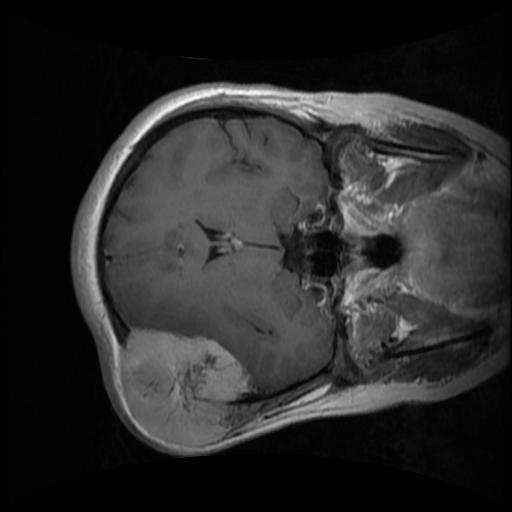meningioma: (119, 328, 249, 447)
